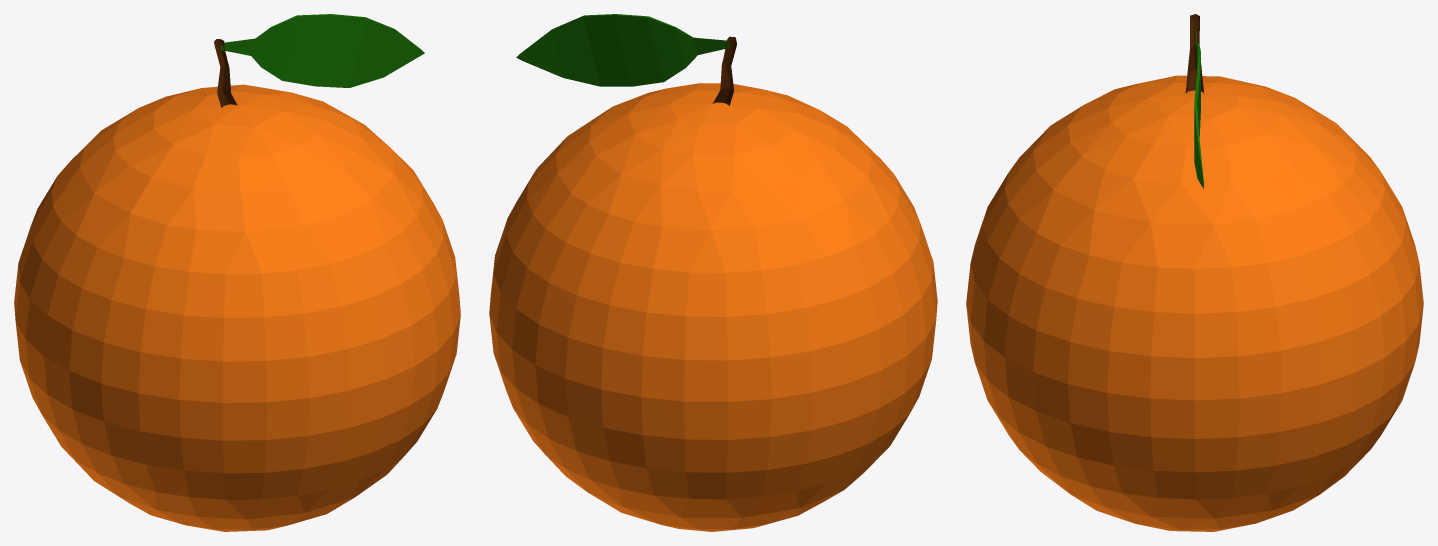
Rendered from Naranja.fbx.
3 views of the same model, side by side, from view 1: azimuth 30°, elevation 25°; view 2: azimuth 150°, elevation 25°; view 3: azimuth 270°, elevation 25° (orthographic). The views are drawn at different scales.
Visible parts, largest first — view 1: Sphere; view 2: Sphere; view 3: Sphere.
Boxes of the visible parts, x1,y1,x2,y2 form: Sphere: (14, 14, 460, 531); Sphere: (489, 14, 937, 531); Sphere: (966, 14, 1423, 531).
Size of the model in its own units: 200 by 236 by 200.
